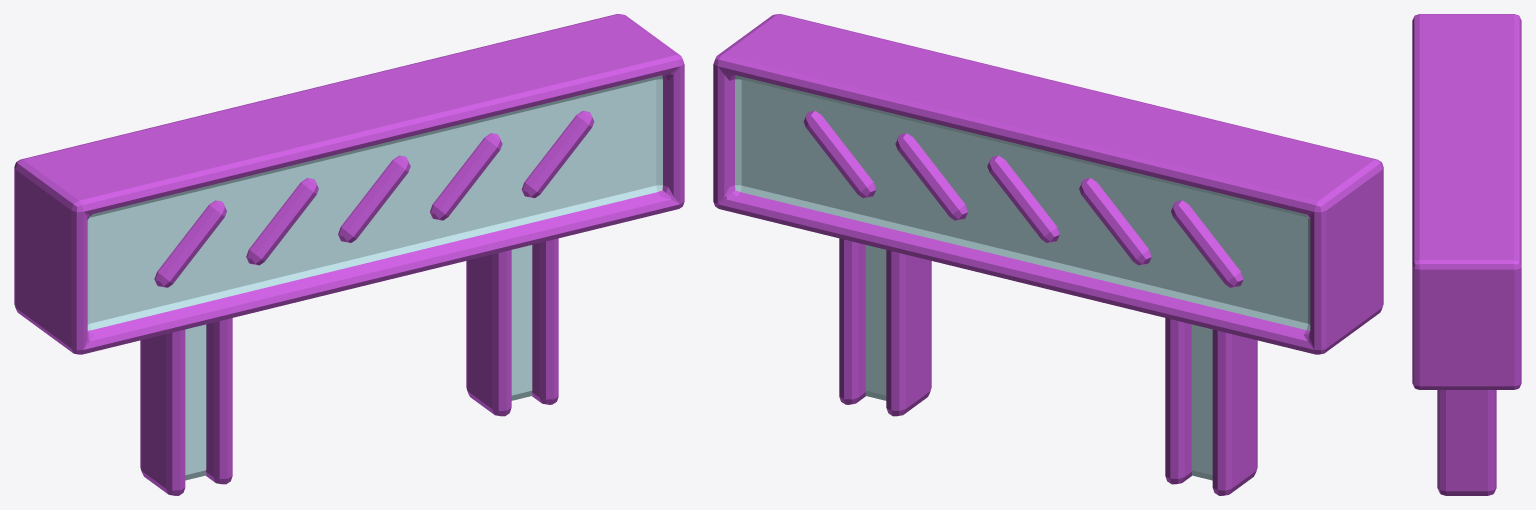
File: GuardRail.fbx
3 views of the same model, side by side, from view 1: azimuth 30°, elevation 25°; view 2: azimuth 150°, elevation 25°; view 3: azimuth 270°, elevation 25° (orthographic). The views are drawn at different scales.
Visible parts, largest first — view 1: Bar, Cube.008, Cube.012, Cube.009, Cube.011, Cube.010, Cube.013, Cube.004, Cube, Cube.007, Cube.005, Cube.006; view 2: Bar, Cube.008, Cube.012, Cube.009, Cube.011, Cube.010, Cube.013, Cube.004, Cube, Cube.007, Cube.005, Cube.006; view 3: Bar, Cube.011.
Boxes of the visible parts, x1,y1,x2,y2 form: Bar: [14, 14, 684, 354]; Cube.008: [140, 329, 185, 495]; Cube.012: [466, 250, 511, 416]; Cube.009: [206, 318, 232, 484]; Cube.011: [532, 238, 558, 404]; Cube.010: [185, 324, 206, 480]; Cube.013: [511, 245, 532, 400]; Cube.004: [338, 155, 410, 242]; Cube: [154, 200, 226, 287]; Cube.007: [246, 178, 318, 265]; Cube.005: [430, 133, 502, 220]; Cube.006: [521, 111, 594, 198]; Bar: [713, 14, 1383, 354]; Cube.008: [1212, 329, 1257, 495]; Cube.012: [886, 250, 931, 416]; Cube.009: [1165, 318, 1191, 484]; Cube.011: [839, 238, 865, 404]; Cube.010: [1191, 324, 1212, 480]; Cube.013: [865, 245, 886, 400]; Cube.004: [987, 155, 1059, 242]; Cube: [1171, 200, 1243, 287]; Cube.007: [1079, 178, 1151, 265]; Cube.005: [895, 133, 967, 220]; Cube.006: [803, 111, 876, 198]; Bar: [1412, 14, 1521, 389]; Cube.011: [1437, 390, 1496, 495].
Size of the model in its own units: 200 by 104 by 36.74.
